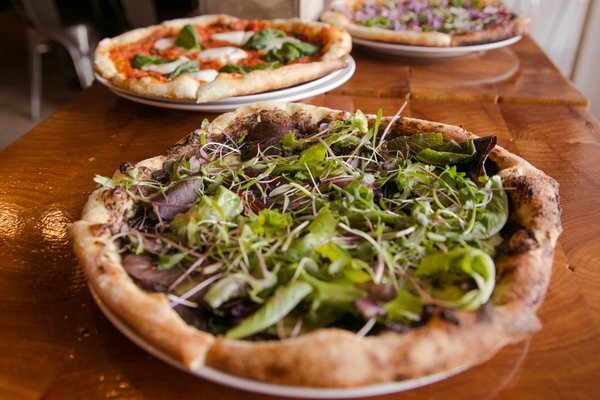curry: (8, 6, 600, 388)
sandwich: (75, 101, 554, 389), (92, 14, 354, 103), (315, 1, 531, 47)
